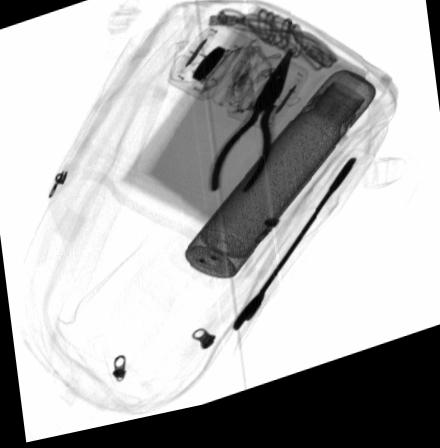Pliers: (208, 60, 295, 208)
Wrench: (230, 172, 357, 344)
